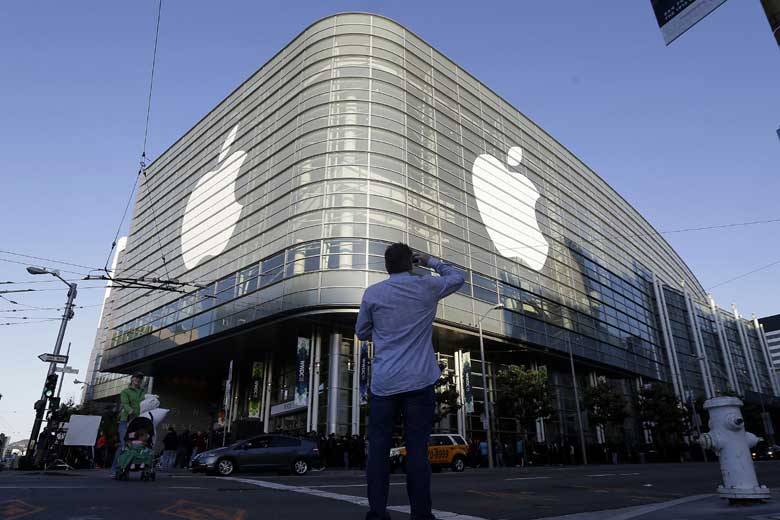apple: (179, 120, 257, 272), (468, 142, 555, 272)
